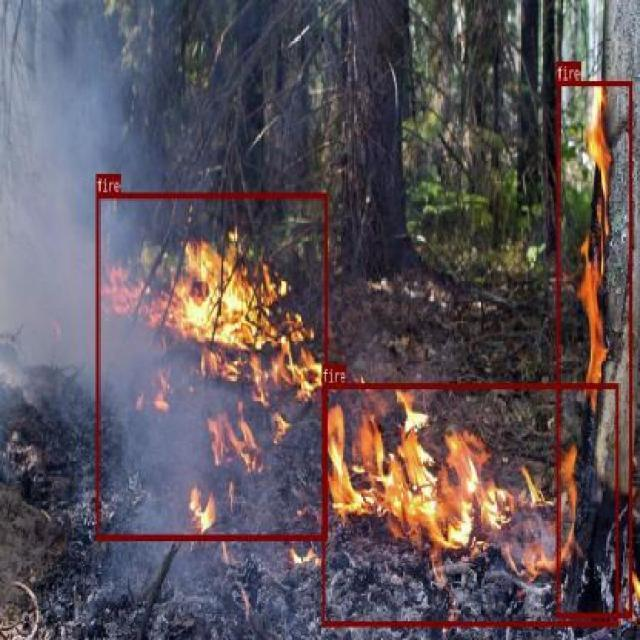fire: (95, 192, 328, 538), (322, 383, 618, 625), (556, 80, 632, 617)
